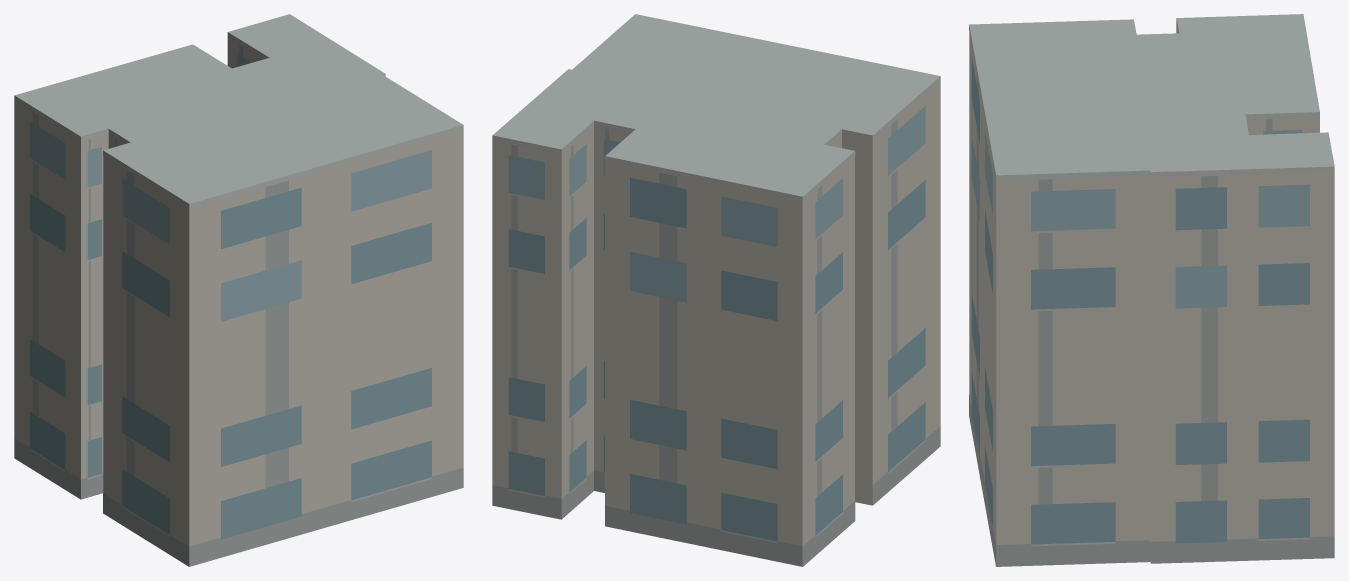
File: survey-upis-32907819.glb
3 renders of one model, left to right at view 1: azimuth 30°, elevation 25°; view 2: azimuth 150°, elevation 25°; view 3: azimuth 270°, elevation 25°, orthographic. The views are drawn at different scales.
Parts seen in each view (by area): view 1: survey-upis-32907819.tmp; view 2: survey-upis-32907819.tmp; view 3: survey-upis-32907819.tmp.
Boxes of the visible parts, x1,y1,x2,y2 form: survey-upis-32907819.tmp: (14, 14, 463, 566); survey-upis-32907819.tmp: (492, 14, 940, 566); survey-upis-32907819.tmp: (969, 14, 1334, 566).
Bounding box in the file's own units: 14.95 × 16.9 × 14.31.
